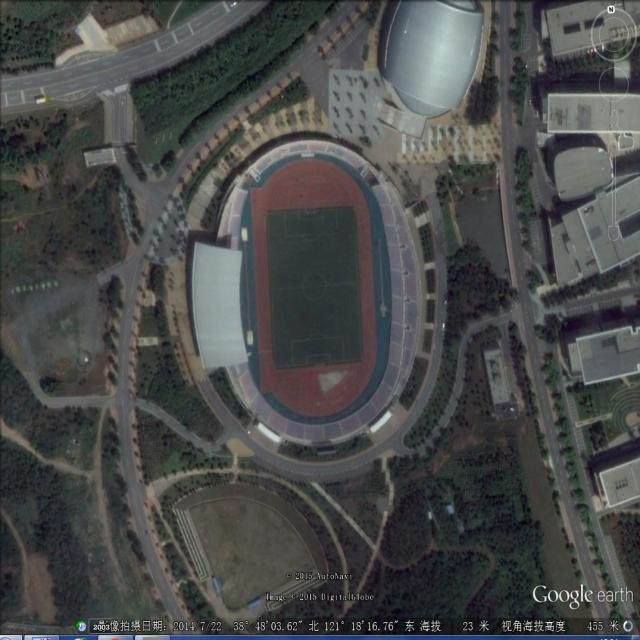playground: (248, 156, 380, 421)
